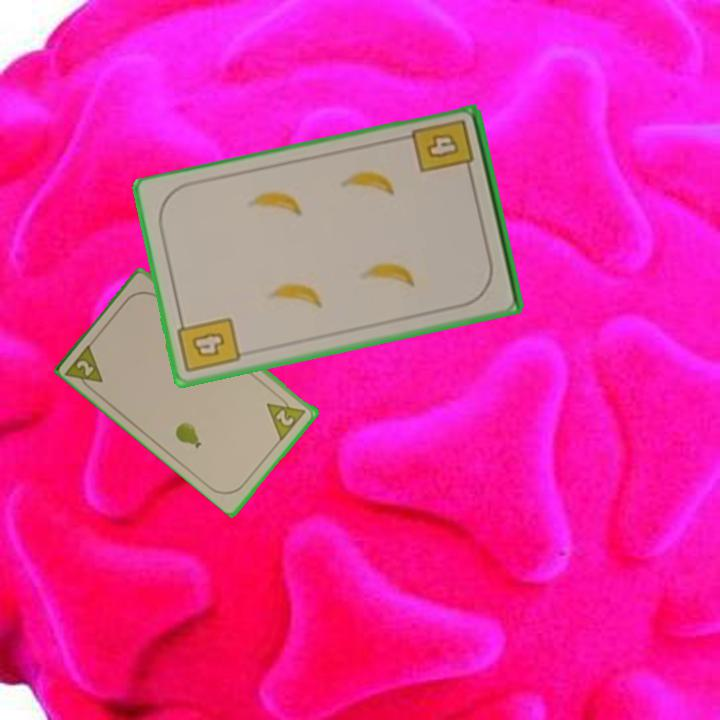2p: (62, 339, 107, 396), (263, 389, 309, 442)
4b: (409, 116, 477, 181), (174, 313, 243, 377)
